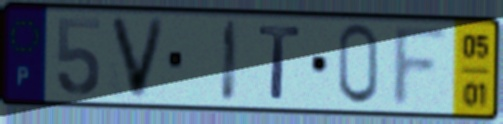0: (334, 21, 381, 110)
5: (55, 14, 103, 98)
F: (388, 24, 454, 111)
I: (219, 17, 242, 106)
T: (255, 23, 304, 103)
V: (106, 14, 170, 102)
